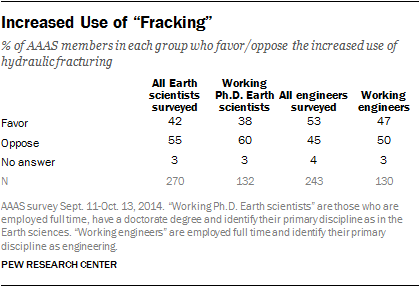fracking table: (1, 75, 412, 194)
